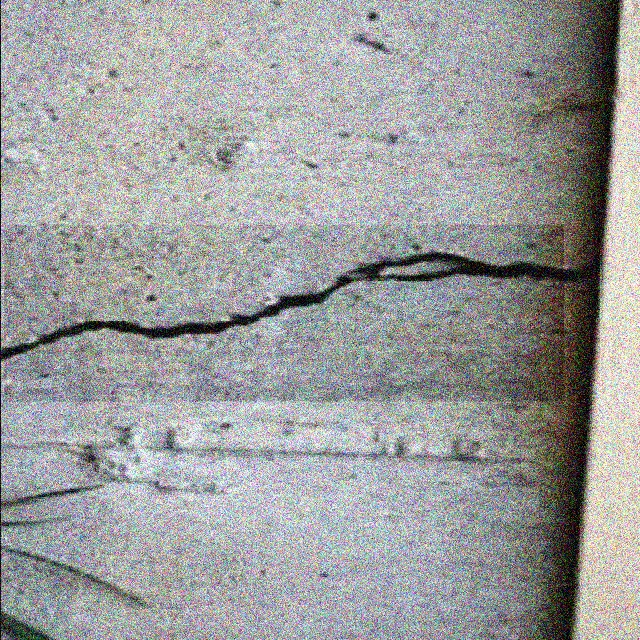SurfaceCrack: (0, 222, 604, 408)
